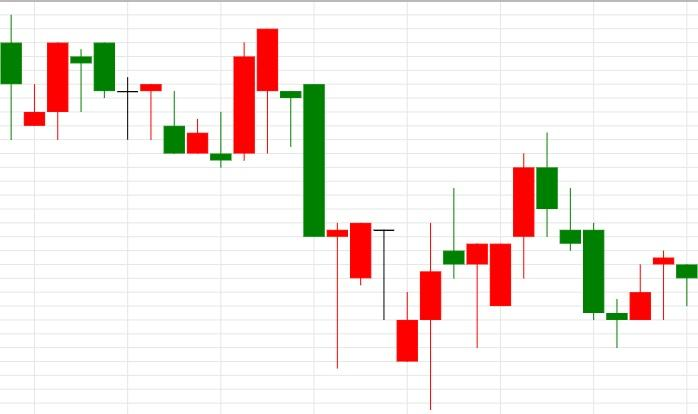morning_star_rise: (536, 132, 651, 348)
